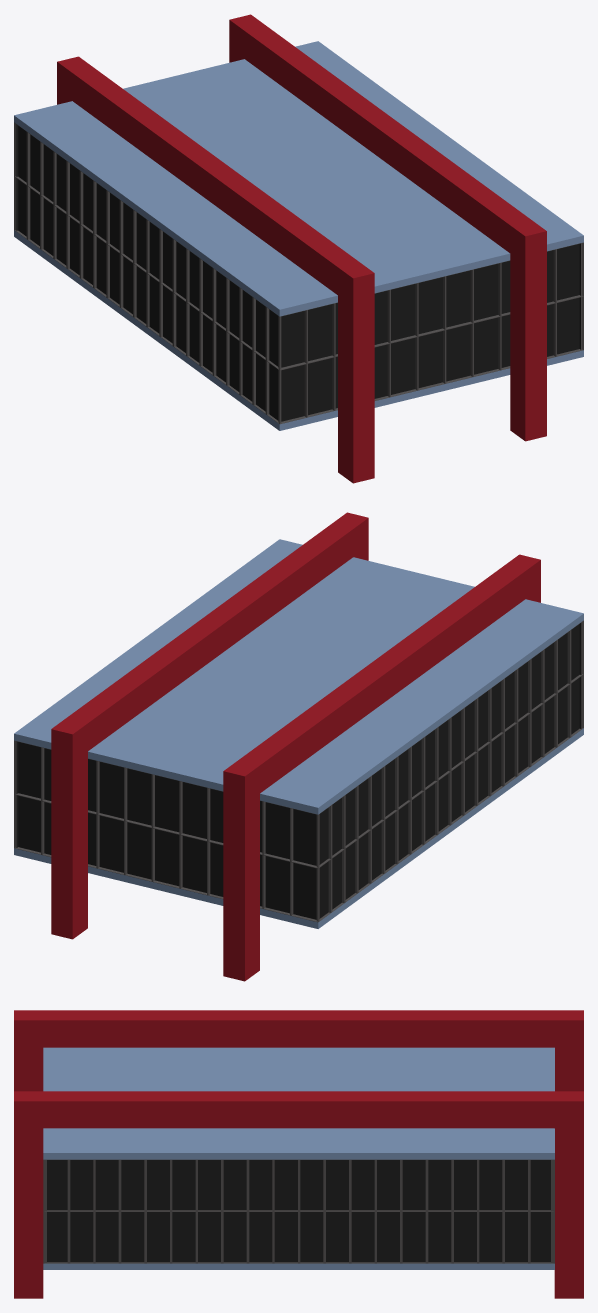
The model's file is Masp.fbx.
3 renders of one model, top to bottom at view 1: azimuth 30°, elevation 25°; view 2: azimuth 150°, elevation 25°; view 3: azimuth 270°, elevation 25°, orthographic. The views are drawn at different scales.
Visible parts, largest first — view 1: Cube.002, Cube, Cube.003, Cube.004, Cube.001; view 2: Cube.002, Cube.003, Cube, Cube.004, Cube.001; view 3: Cube.002, Cube.003, Cube, Cube.004, Cube.001.
Part boxes in pixels (left/top/right/bottom): Cube.002: left=14, top=41, right=583, bottom=430; Cube: left=72, top=67, right=374, bottom=483; Cube.003: left=244, top=25, right=546, bottom=441; Cube.004: left=229, top=14, right=265, bottom=62; Cube.001: left=57, top=56, right=93, bottom=104; Cube.002: left=14, top=539, right=583, bottom=928; Cube.003: left=67, top=512, right=368, bottom=750; Cube: left=239, top=554, right=540, bottom=793; Cube.004: left=51, top=718, right=87, bottom=939; Cube.001: left=223, top=760, right=259, bottom=981; Cube.002: left=43, top=1047, right=554, bottom=1269; Cube.003: left=14, top=1091, right=554, bottom=1298; Cube: left=14, top=1010, right=554, bottom=1091; Cube.004: left=554, top=1091, right=583, bottom=1298; Cube.001: left=554, top=1010, right=583, bottom=1091.
Size of the model in its own units: 3382 by 2178 by 5699.
